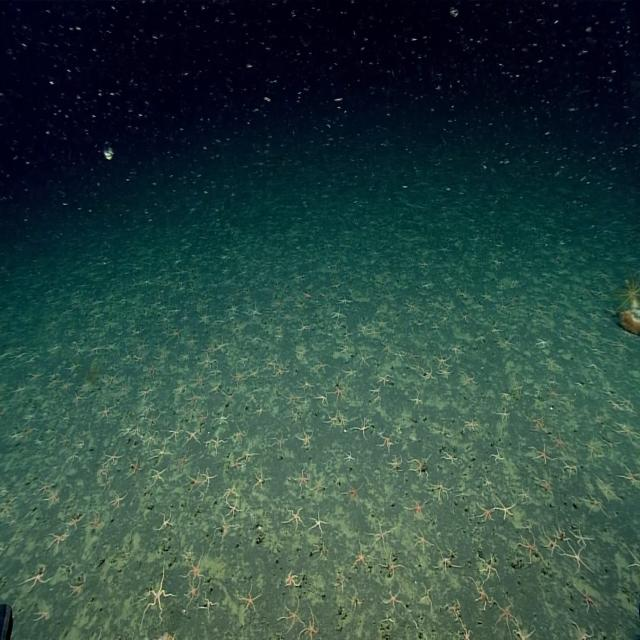brittle-stars: (140, 564, 172, 622), (562, 542, 592, 576), (492, 592, 516, 634), (21, 562, 49, 594), (379, 586, 408, 614), (518, 529, 542, 562), (278, 597, 302, 629), (236, 584, 262, 612), (614, 417, 639, 445), (470, 575, 490, 609), (368, 521, 391, 550), (351, 537, 370, 572), (183, 550, 206, 578), (575, 584, 597, 613), (301, 605, 319, 640), (479, 553, 500, 583), (568, 523, 592, 549), (436, 545, 454, 579), (542, 527, 564, 554), (582, 492, 606, 516), (408, 454, 430, 480), (216, 516, 238, 541), (494, 494, 515, 520), (406, 494, 426, 521), (284, 504, 304, 530), (531, 440, 551, 466), (617, 463, 640, 485), (342, 481, 364, 504), (47, 528, 68, 552), (413, 526, 431, 554), (476, 498, 495, 524), (550, 429, 569, 455), (308, 512, 327, 537), (439, 448, 462, 468), (185, 576, 201, 604), (200, 591, 217, 617), (151, 442, 171, 464), (34, 604, 54, 624), (252, 468, 268, 493), (383, 556, 403, 576), (295, 427, 314, 448), (156, 509, 173, 532), (206, 433, 226, 452), (430, 480, 450, 499), (385, 454, 404, 474), (44, 486, 62, 507), (104, 445, 121, 467), (354, 418, 371, 440), (458, 617, 474, 640), (96, 402, 114, 422), (282, 387, 301, 405), (150, 466, 167, 486), (270, 430, 287, 450), (284, 566, 299, 588), (232, 424, 247, 446), (110, 490, 126, 510), (462, 414, 478, 434), (294, 468, 310, 488), (176, 449, 190, 471), (330, 384, 347, 402), (225, 499, 242, 517), (435, 350, 451, 369), (214, 406, 229, 426), (88, 510, 102, 531), (494, 405, 511, 422), (213, 336, 230, 353), (184, 426, 200, 444), (186, 473, 202, 491), (378, 433, 394, 451), (448, 344, 466, 360), (222, 482, 238, 500), (490, 447, 505, 466), (201, 468, 215, 488), (315, 388, 329, 408), (311, 479, 328, 495), (330, 306, 345, 324), (410, 389, 423, 409), (126, 458, 142, 474), (198, 354, 214, 370), (69, 513, 84, 530), (535, 334, 550, 351), (460, 368, 475, 385), (438, 364, 452, 382), (314, 355, 328, 373), (422, 364, 434, 384), (144, 429, 158, 446), (28, 368, 42, 385), (324, 410, 338, 427), (197, 308, 211, 325), (294, 343, 307, 361), (187, 389, 200, 407), (167, 423, 179, 442), (337, 293, 352, 308), (518, 485, 530, 503), (406, 346, 420, 361), (231, 456, 244, 471), (97, 464, 109, 480), (338, 410, 350, 426), (228, 300, 240, 316), (88, 342, 102, 355), (244, 446, 257, 460), (135, 338, 148, 352), (342, 449, 354, 464), (482, 472, 492, 489), (377, 372, 391, 384), (275, 364, 287, 378), (291, 408, 301, 423), (548, 387, 560, 399)
